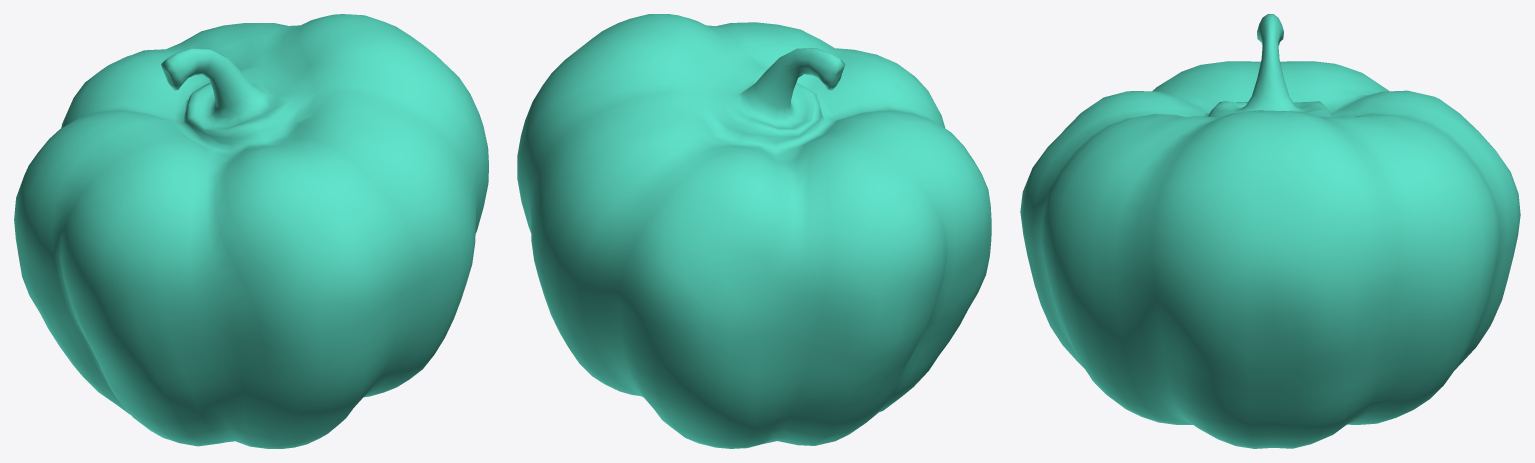
Rendered from PepperBell-Red2.obj.
3 renders of one model, left to right at view 1: azimuth 30°, elevation 25°; view 2: azimuth 150°, elevation 25°; view 3: azimuth 270°, elevation 25°, orthographic.
Visible parts, largest first — view 1: PepperBell_Red2; view 2: PepperBell_Red2; view 3: PepperBell_Red2.
Part boxes in pixels (x1,y1,x2,y2): PepperBell_Red2: (14, 14, 488, 448); PepperBell_Red2: (517, 14, 991, 448); PepperBell_Red2: (1020, 14, 1520, 448).
Size of the model in its own units: 4.11 by 3.61 by 4.28.
